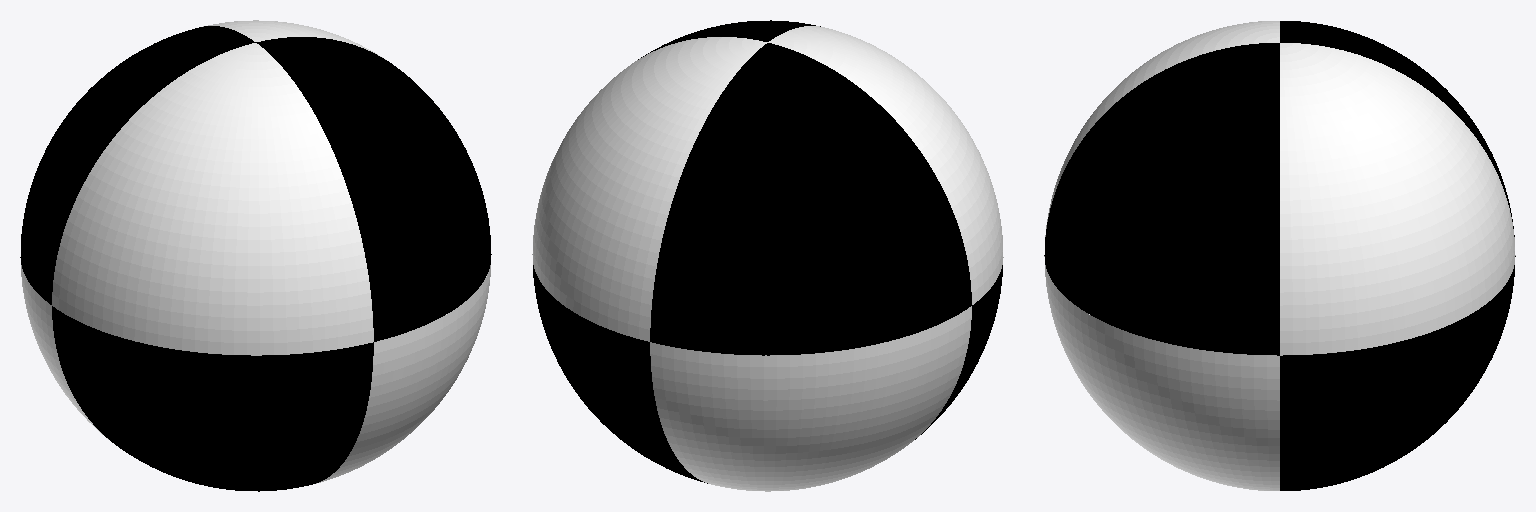
The robot description file, URDF, robot "com":
<?xml version="1.0" ?>
<robot name="com">
  <link name="WhiteLink">
    <inertial>
      <origin rpy="0 0 0" xyz="0 0 0"/>
       <mass value=".0001"/>
       <inertia ixx="1" ixy="0" ixz="0" iyy="1" iyz="0" izz="1"/>
    </inertial>
    <visual>
      <origin rpy="1.5709 0 0" xyz="0 0 0"/>
      <geometry>
				<mesh filename="com_half.STL" scale="0.1 0.1 0.1"/>
      </geometry>
       <material name="white">
        <color rgba="1 1 1 1"/>
      </material>
    </visual>
   
  </link>
  <joint name="base" type="fixed">
    <parent link="WhiteLink"/>
    <child link="BlackLink"/>
    <origin xyz="0 0 0" rpy="0 0 0"/>
  </joint>
    <link name="BlackLink">
    <inertial>
      <origin rpy="0 0 0" xyz="0 0 0"/>
       <mass value=".0001"/>
       <inertia ixx="1" ixy="0" ixz="0" iyy="1" iyz="0" izz="1"/>
    </inertial>
    <visual>
      <origin rpy="0 0 0" xyz="0 0 0"/>
      <geometry>
				<mesh filename="com_half.STL" scale="0.1 0.1 0.1"/>
      </geometry>
       <material name="black">
        <color rgba="0 0 0 1"/>
      </material>
    </visual>
   
  </link>
</robot>

--- Facts derived from the render (not from the file) ---
Views: 3 orthographic renders of the robot side by side, from view 1: azimuth 30°, elevation 25°; view 2: azimuth 150°, elevation 25°; view 3: azimuth 270°, elevation 25°.
Model com with 2 links and 1 joints (1 fixed), rooted at WhiteLink, posed all joints at 0.
Links seen in each view (by area): view 1: WhiteLink, BlackLink; view 2: WhiteLink, BlackLink; view 3: BlackLink, WhiteLink.
Link boxes in pixels (x1,y1,x2,y2): WhiteLink: (21, 20, 490, 483); BlackLink: (20, 26, 491, 491); WhiteLink: (532, 26, 1003, 491); BlackLink: (533, 20, 1002, 483); BlackLink: (1044, 21, 1515, 490); WhiteLink: (1044, 21, 1515, 490).
Bounding box of the posed robot: 0.2 × 0.2 × 0.2 m (x, y, z).
Meshes: 1 distinct files referenced, 2 mesh visuals loaded (1 binary STL).
